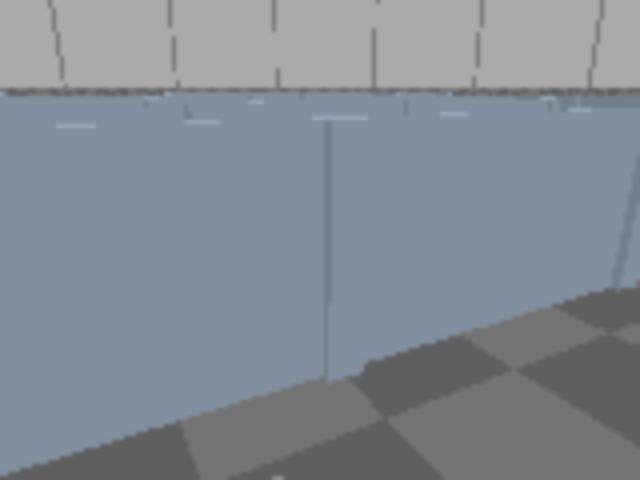puck: (249, 466, 303, 478)
